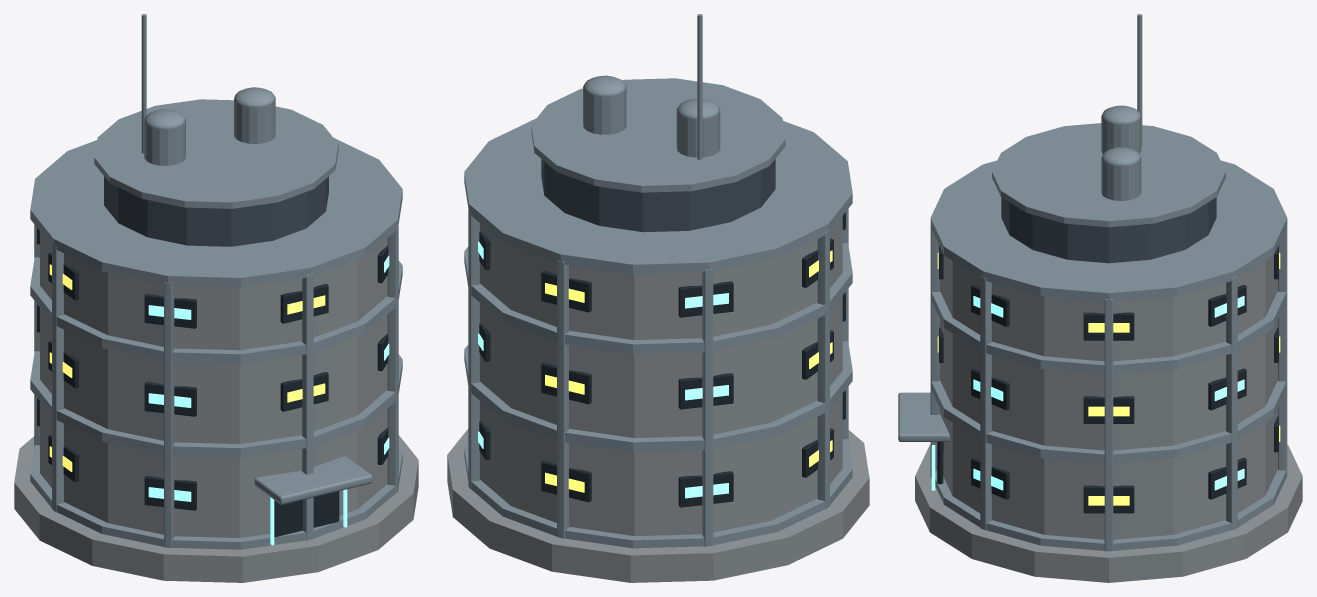
Rendered from UtilityHabitat.fbx.
The picture shows the model from 3 angles, left to right: view 1: azimuth 30°, elevation 25°; view 2: azimuth 150°, elevation 25°; view 3: azimuth 270°, elevation 25°; orthographic projection. The views are drawn at different scales.
Parts seen in each view (by area): view 1: UtilityHabitat_Steel, UtilityHabitat_Concrete, UtilityHabitat_Dark, UtilityHabitat_Graphite, UtilityHabitat_Cyan, UtilityHabitat_Amber; view 2: UtilityHabitat_Concrete, UtilityHabitat_Steel, UtilityHabitat_Graphite, UtilityHabitat_Dark, UtilityHabitat_Amber, UtilityHabitat_Cyan; view 3: UtilityHabitat_Steel, UtilityHabitat_Concrete, UtilityHabitat_Dark, UtilityHabitat_Graphite, UtilityHabitat_Cyan, UtilityHabitat_Amber.
Boxes of the visible parts, x1,y1,x2,y2 form: UtilityHabitat_Steel: (30, 14, 402, 549); UtilityHabitat_Concrete: (14, 231, 418, 582); UtilityHabitat_Dark: (37, 228, 388, 537); UtilityHabitat_Graphite: (104, 176, 328, 246); UtilityHabitat_Cyan: (148, 255, 389, 545); UtilityHabitat_Amber: (49, 264, 325, 471); UtilityHabitat_Concrete: (447, 216, 869, 582); UtilityHabitat_Steel: (464, 14, 852, 548); UtilityHabitat_Graphite: (541, 159, 775, 232); UtilityHabitat_Dark: (479, 212, 845, 507); UtilityHabitat_Amber: (545, 250, 832, 492); UtilityHabitat_Cyan: (478, 241, 728, 498); UtilityHabitat_Steel: (898, 14, 1287, 551); UtilityHabitat_Concrete: (915, 255, 1302, 582); UtilityHabitat_Dark: (937, 245, 1278, 513); UtilityHabitat_Graphite: (1001, 197, 1216, 263); UtilityHabitat_Cyan: (931, 296, 1244, 490); UtilityHabitat_Amber: (937, 252, 1280, 505).
Bounding box in the file's own units: 1260 × 1650 × 1315.
